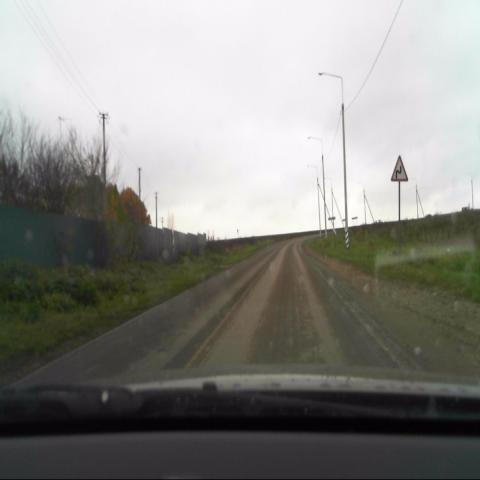1_12: (389, 153, 409, 183)
